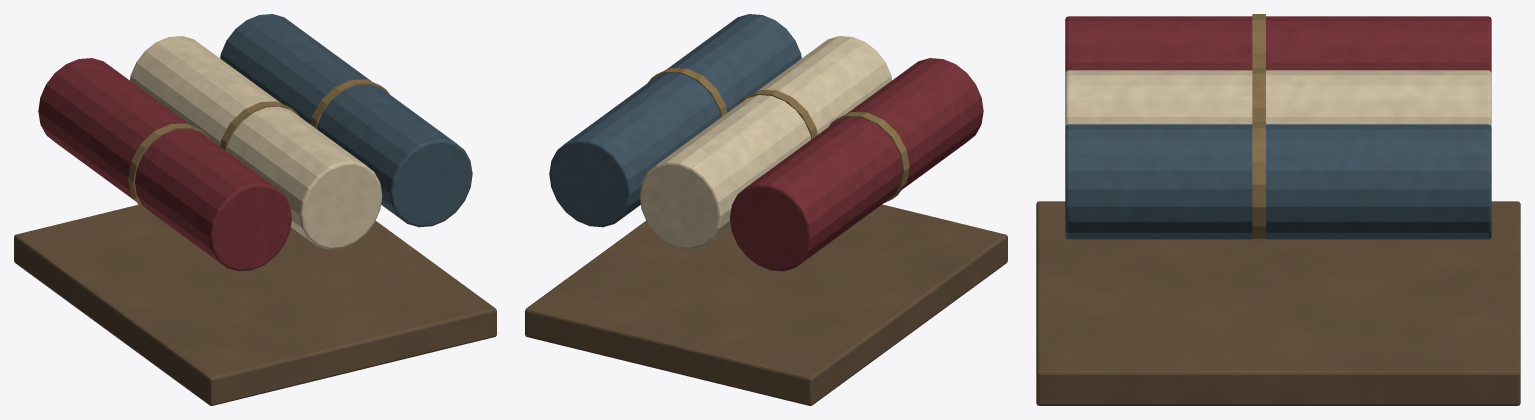
Rendered from Rolled_Fabric.fbx.
3 views of the same model, side by side, from view 1: azimuth 30°, elevation 25°; view 2: azimuth 150°, elevation 25°; view 3: azimuth 270°, elevation 25° (orthographic). The views are drawn at different scales.
Visible parts, largest first — view 1: Rolled_Fabric.001; view 2: Rolled_Fabric.001; view 3: Rolled_Fabric.001.
Part boxes in pixels (<box>): Rolled_Fabric.001: <box>14,14,496,405</box>; Rolled_Fabric.001: <box>525,14,1007,405</box>; Rolled_Fabric.001: <box>1036,14,1520,405</box>.
Bounding box in the file's own units: 1.05 × 0.705 × 1.25.
